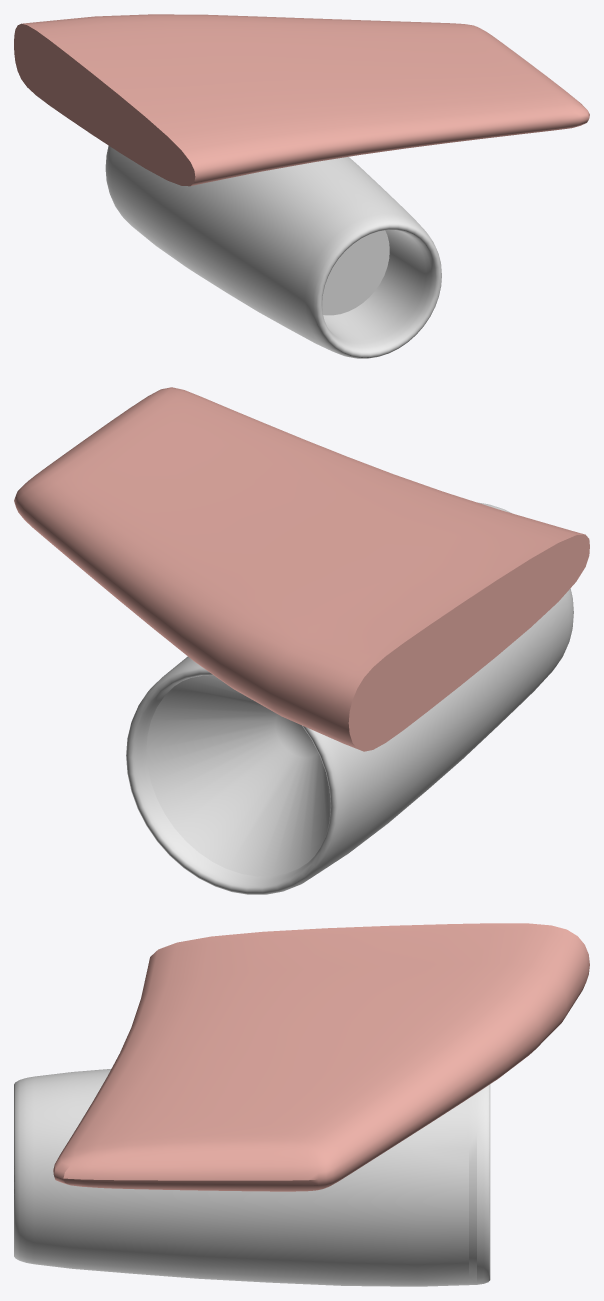
Rendered from PlaneRight.glb.
3 views of the same model, one above another, from view 1: azimuth 30°, elevation 25°; view 2: azimuth 150°, elevation 25°; view 3: azimuth 270°, elevation 25° (orthographic). The views are drawn at different scales.
Parts seen in each view (by area): view 1: PlaneRight; view 2: PlaneRight; view 3: PlaneRight.
Part boxes in pixels (<box>): PlaneRight: <box>14,14,589,358</box>; PlaneRight: <box>14,387,589,894</box>; PlaneRight: <box>14,923,589,1286</box>.
Size of the model in its own units: 0.3241 by 0.1905 by 0.3627.
